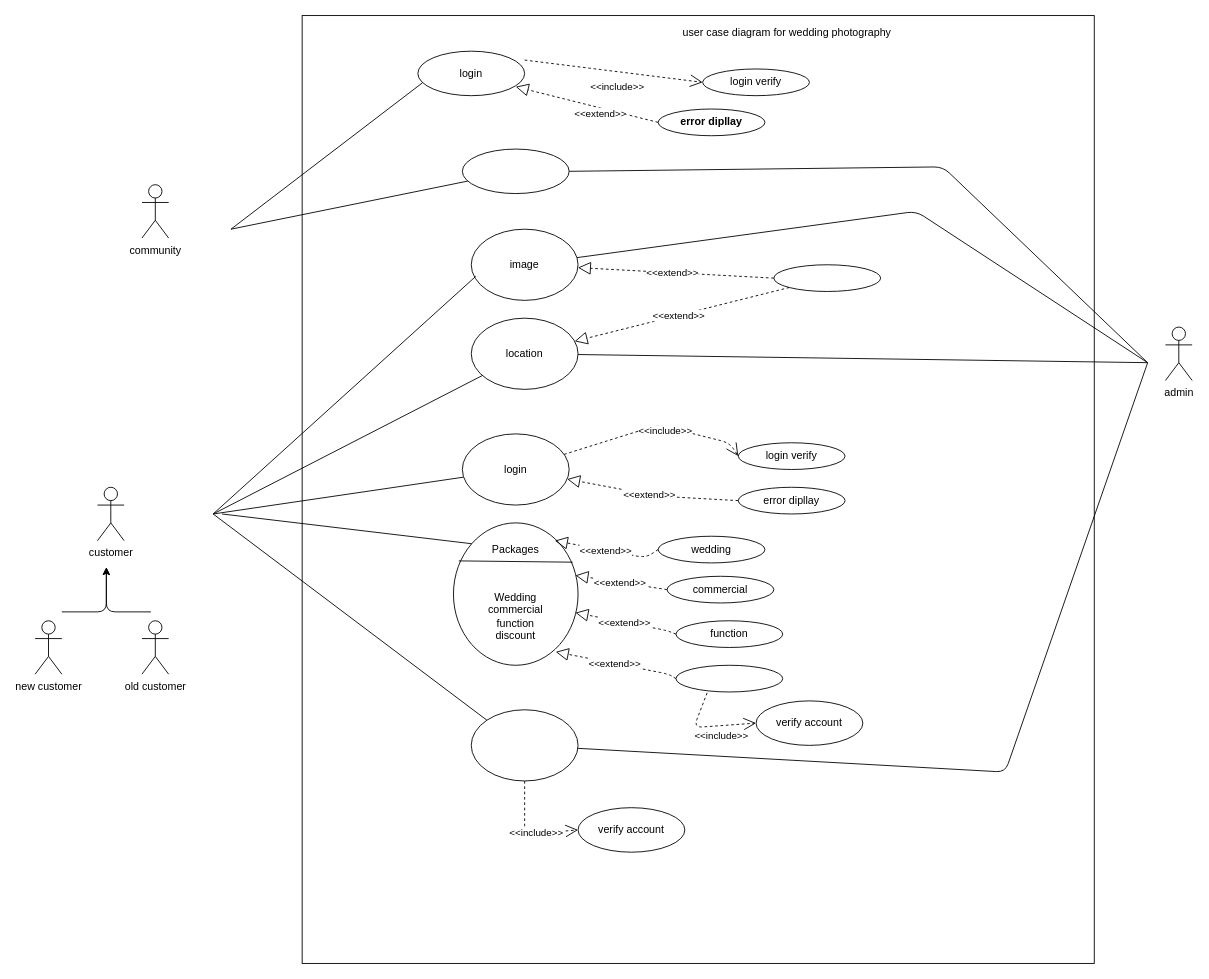
Some shapes in this 1209 by 979 pixel diagram are drawn without their labels. Each missing label, with the centre of its shape:
add detail: point 515,171
appointment: point 524,745
comment: point 827,277
discount: point 729,678
